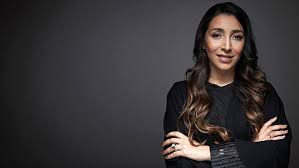middle_eastern_Female: (195, 1, 255, 81)
